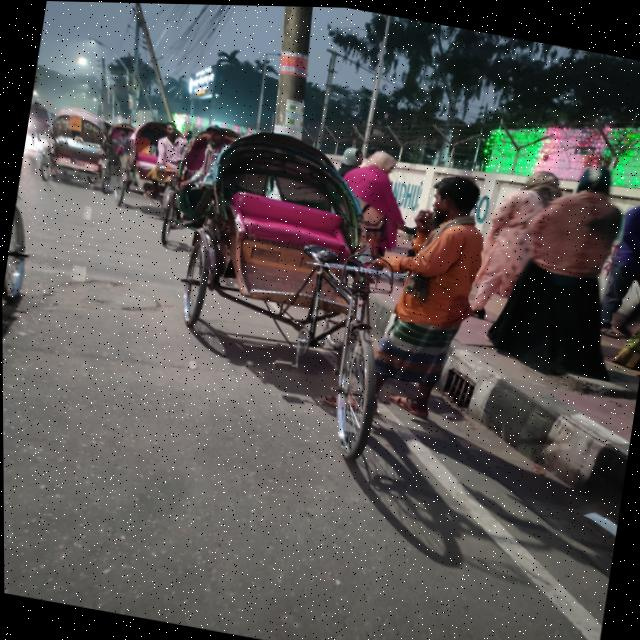rikshaw: (164, 98, 462, 465)
